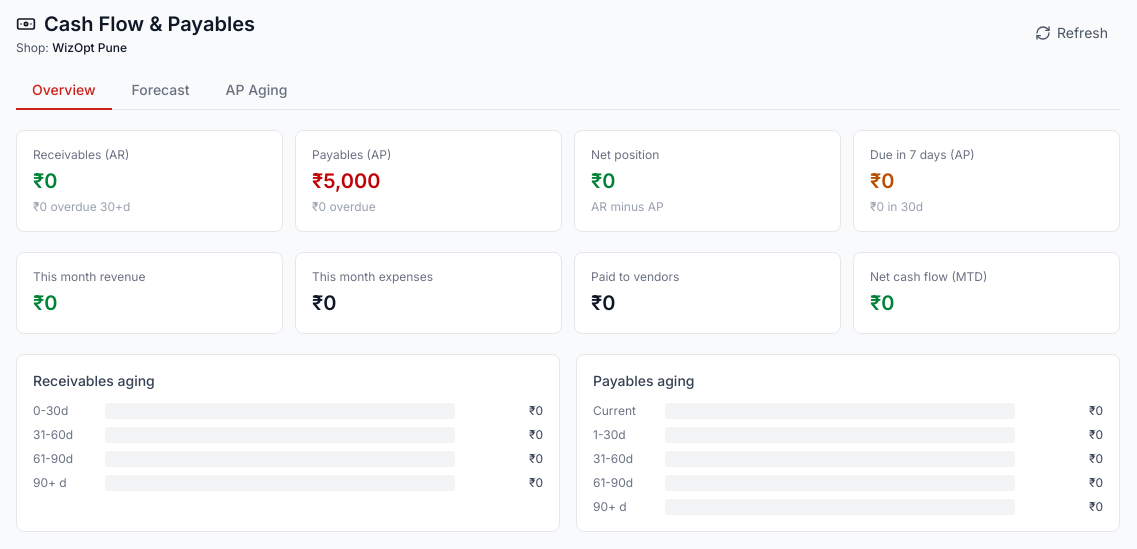
it: the page says which shop its payables cover (#21) › names the shop when the server scoped the figures to one
Check: the element with test id "payables-shop" reads "Shop: WizOpt Pune", box [16,40,127,55]
Click the button "AP Aging" at (256, 91), box [210,72,303,110]
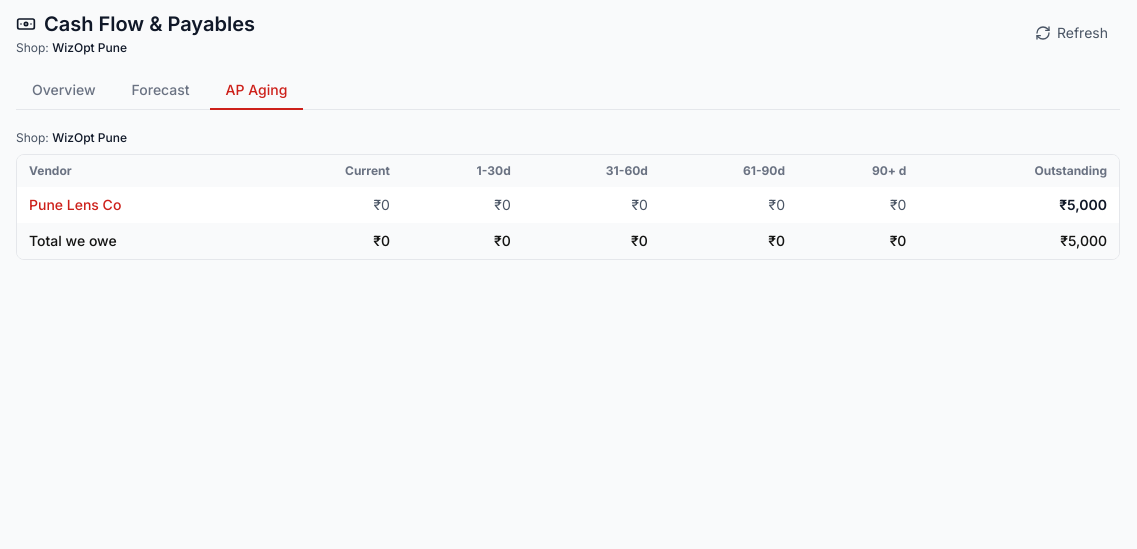
Check: the element with test id "aging-shop" reads "Shop: WizOpt Pune", box [16,130,127,145]
